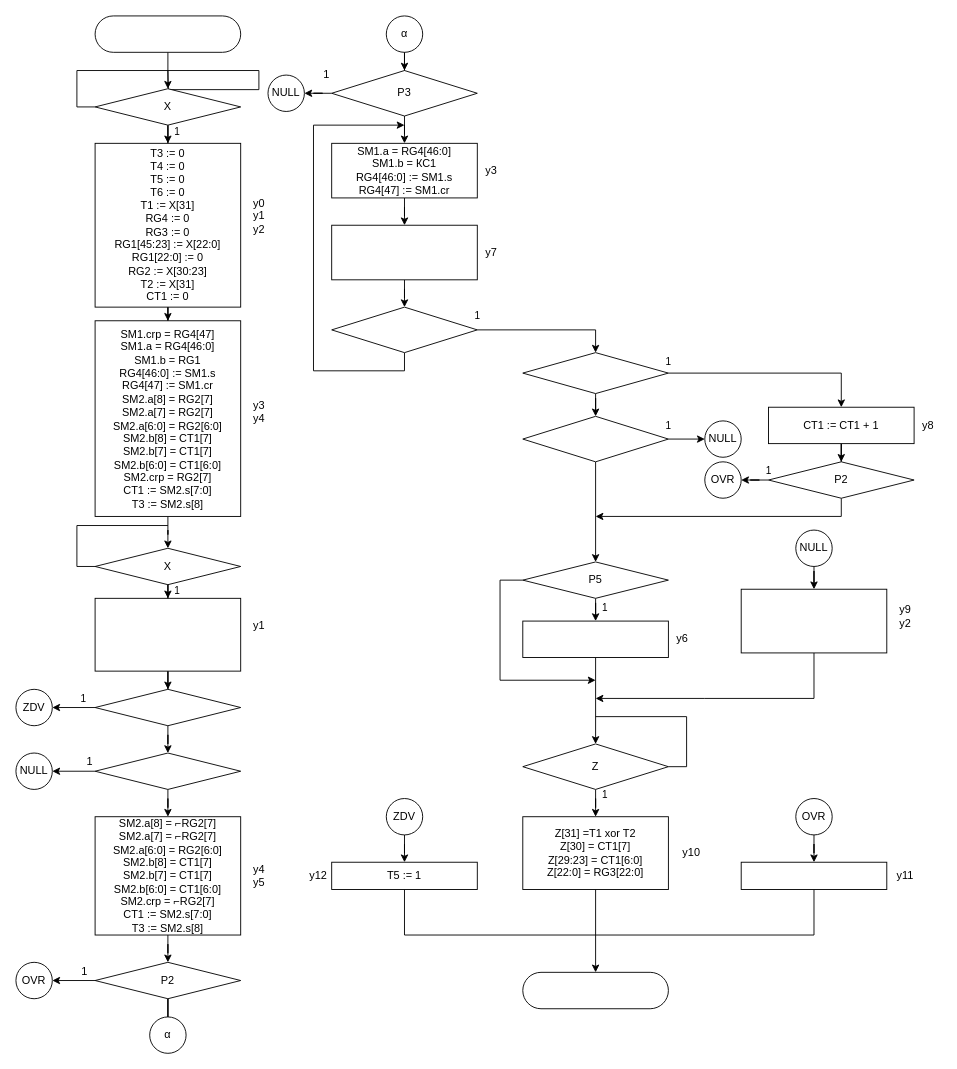
This 957x1069 diagram has some shape labels left out. The shapes that lost their labels are listed below. From the top down, each one's centre as x and y in pixels, then its label:
(x=167, y=33): Начало
(x=404, y=252): RG1 := 0.R1(RG1) RG3 := L1(RG3).(⌐RG4[46]) T6 := T6 + 1
(x=404, y=329): P6
(x=595, y=373): P7
(x=595, y=438): P4
(x=167, y=634): RG1[45:23] := X[22:0] RG1[22:0] := 0 RG2 := X[30:23] T2 := X[31]
(x=595, y=638): CT1 := CT1 - 1
(x=813, y=620): T1 := 0 T2 := 0 RG3 := 0 CT1 := 0
(x=167, y=707): P0
(x=167, y=770): P1
(x=813, y=875): T4 := 1
(x=595, y=990): Конец
